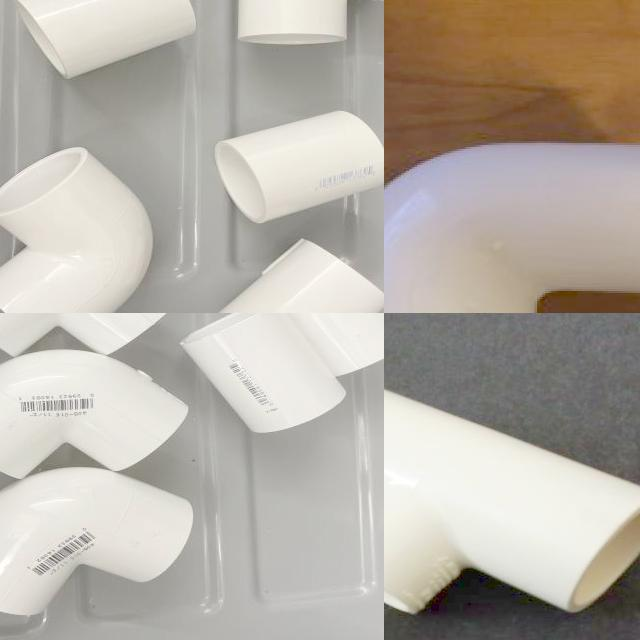L Joint: (384, 142, 640, 313), (0, 469, 196, 620), (0, 147, 156, 313), (0, 350, 189, 480)
